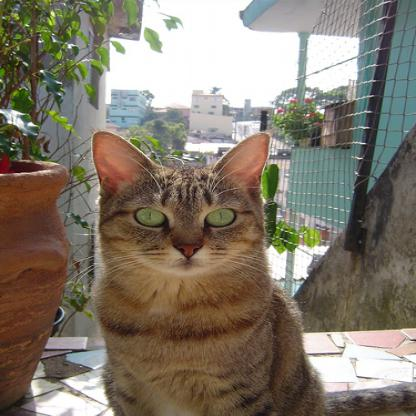cat: (89, 129, 415, 415)
pottedplant: (0, 0, 186, 416), (275, 96, 325, 148)
